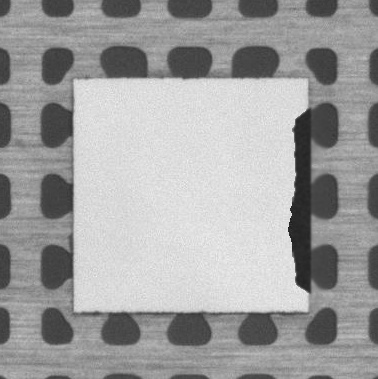DIE_BROKEN: (285, 110, 313, 299)
